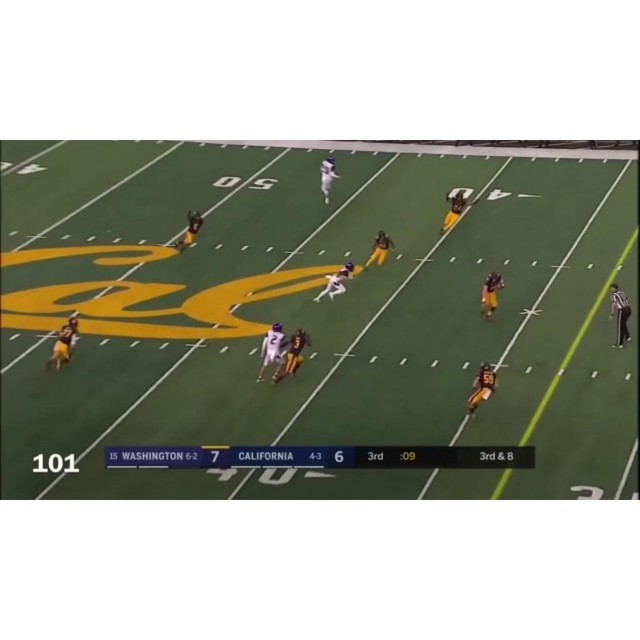american-football-player: (275, 325, 312, 382), (255, 321, 288, 384), (43, 317, 80, 373), (312, 260, 356, 304), (466, 362, 497, 417), (438, 187, 471, 236), (363, 230, 397, 272), (175, 209, 205, 254), (480, 272, 505, 321), (318, 154, 341, 205)
referee: (608, 282, 633, 349)
